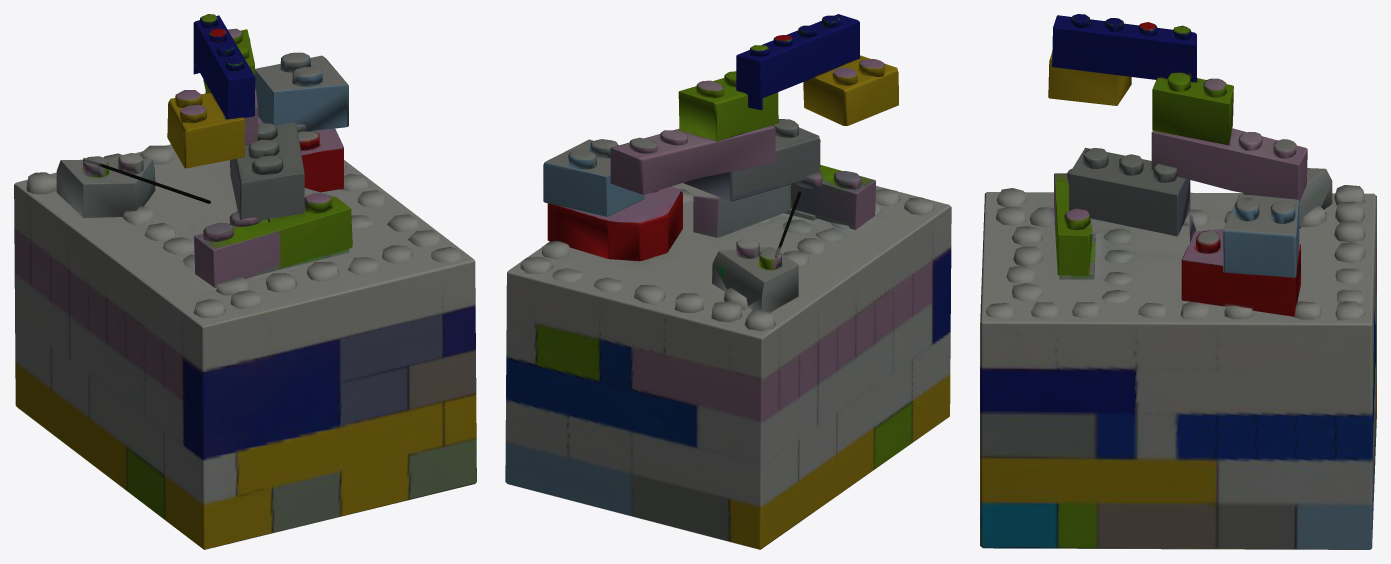
Rendered from object_39_asset_9398cc66.glb.
The picture shows the model from 3 angles, left to right: view 1: azimuth 30°, elevation 25°; view 2: azimuth 150°, elevation 25°; view 3: azimuth 270°, elevation 25°; orthographic projection. The views are drawn at different scales.
Parts seen in each view (by area): view 1: tripo_node_427648f5-80bd-4d96-9664-f0cebb0b18b3; view 2: tripo_node_427648f5-80bd-4d96-9664-f0cebb0b18b3; view 3: tripo_node_427648f5-80bd-4d96-9664-f0cebb0b18b3.
Boxes of the visible parts, x1,y1,x2,y2 form: tripo_node_427648f5-80bd-4d96-9664-f0cebb0b18b3: (14,14,476,549); tripo_node_427648f5-80bd-4d96-9664-f0cebb0b18b3: (505,14,951,549); tripo_node_427648f5-80bd-4d96-9664-f0cebb0b18b3: (980,14,1376,549).
Size of the model in its own units: 0.6699 by 0.998 by 0.8184.
Materials: 1 (1 with a texture image).
